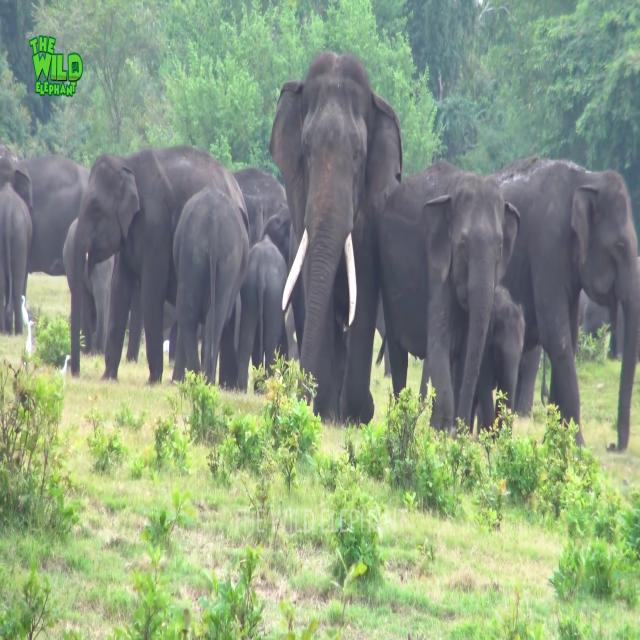Elephant: (268, 49, 402, 427), (484, 156, 640, 453), (72, 144, 250, 385), (375, 160, 521, 440)
